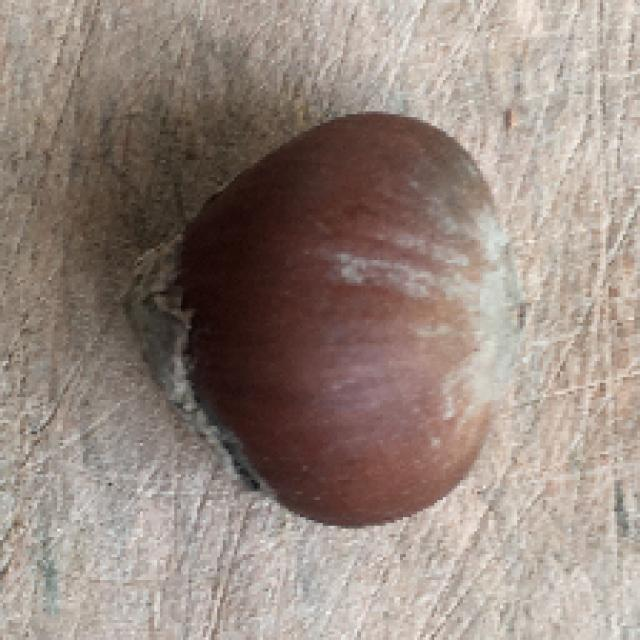damagedHazelnut: (118, 107, 519, 534)
